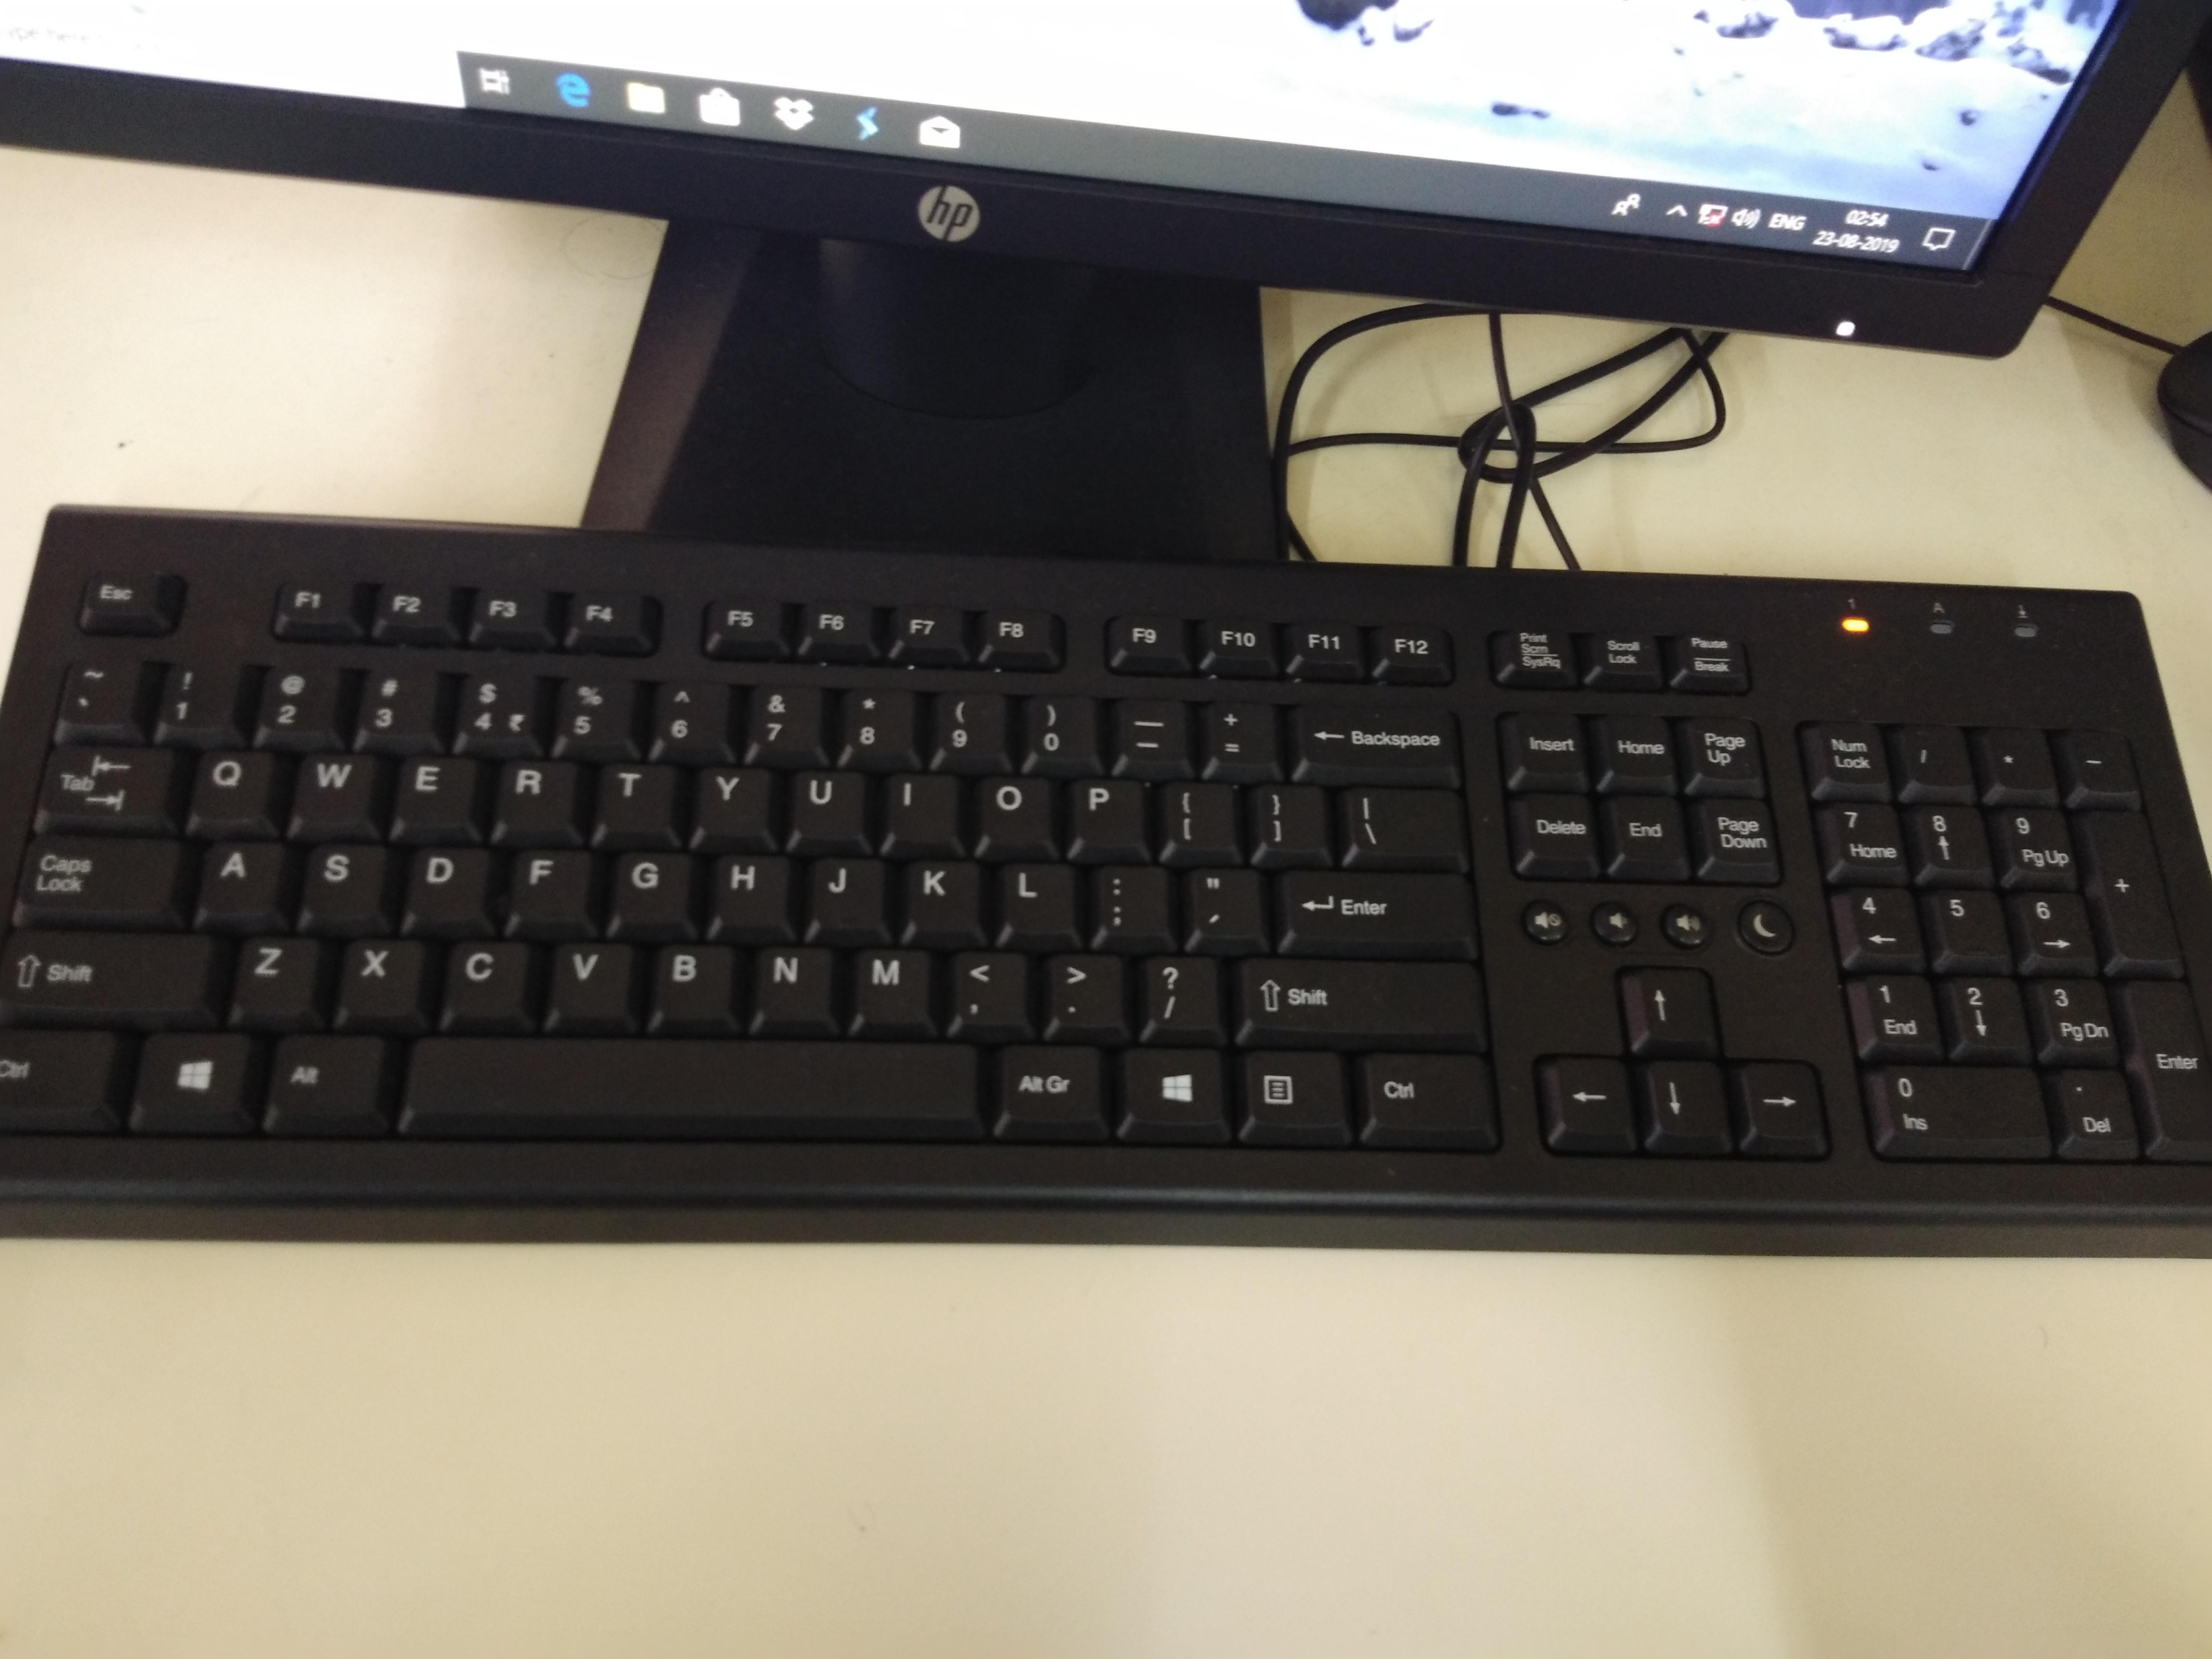keyboard: (7, 457, 2209, 1281)
